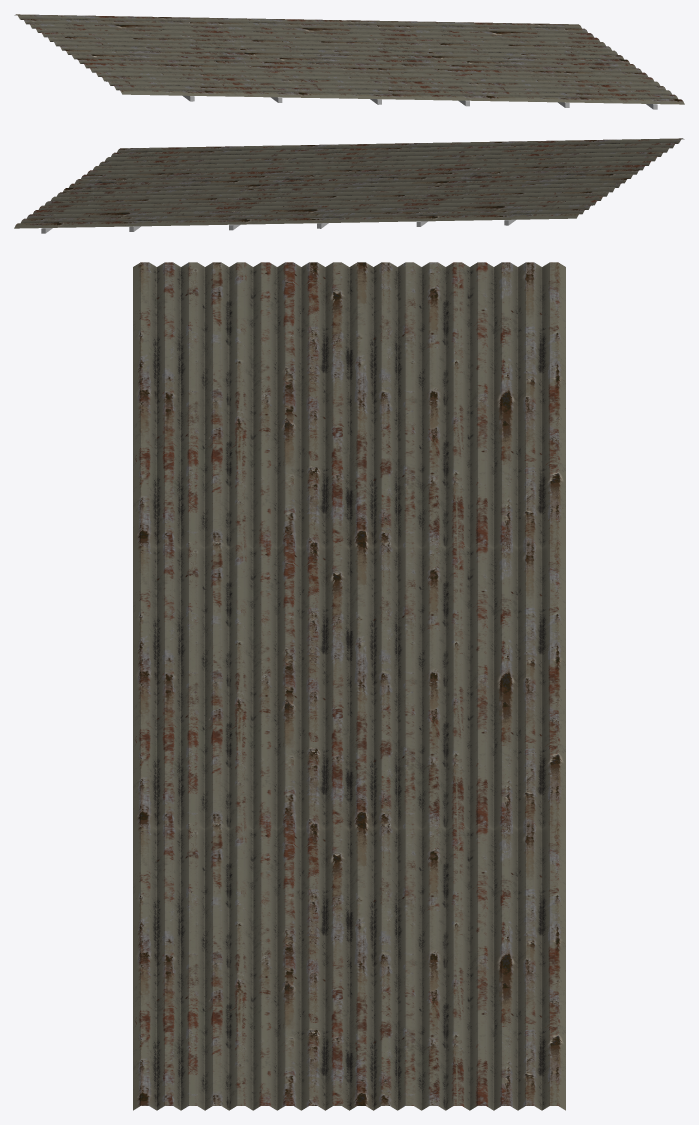
Rendered from Metal_Roof_3X.fbx.
The picture shows the model from 3 angles, top to bottom: view 1: azimuth 30°, elevation 25°; view 2: azimuth 150°, elevation 25°; view 3: azimuth 270°, elevation 25°; orthographic projection. The views are drawn at different scales.
Parts seen in each view (by area): view 1: Metal_Roof_3X; view 2: Metal_Roof_3X; view 3: Metal_Roof_3X.
Part boxes in pixels (<box>): Metal_Roof_3X: <box>14,14,684,109</box>; Metal_Roof_3X: <box>14,138,684,233</box>; Metal_Roof_3X: <box>133,262,565,1110</box>.
Size of the model in its own units: 12 by 3.05 by 4.
